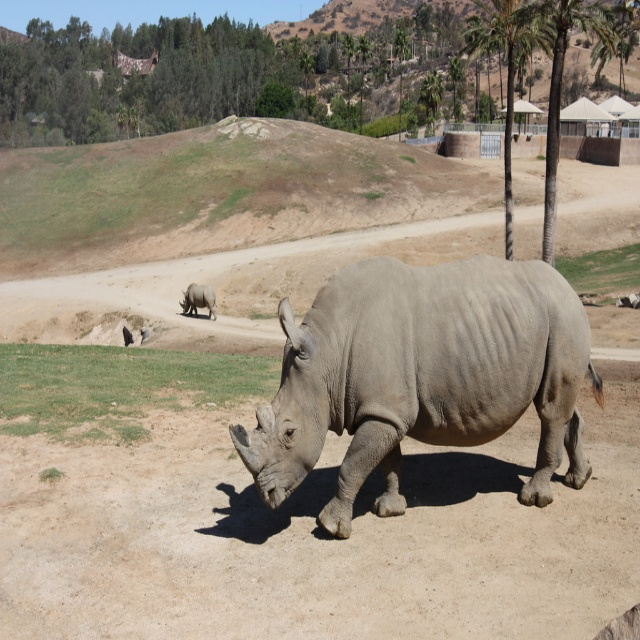Rhinoceros: (224, 250, 604, 547), (180, 280, 217, 321)
